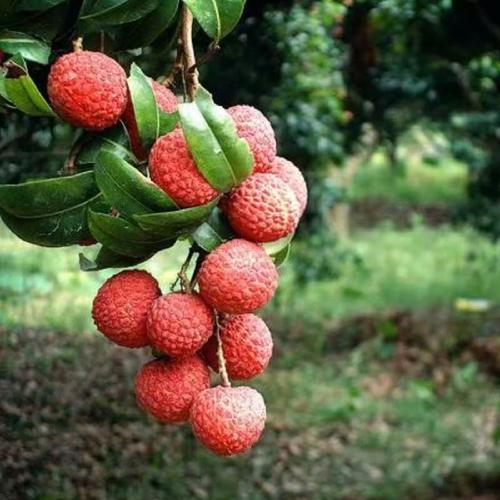litchi: (99, 88, 304, 448)
stem: (173, 1, 203, 103)
